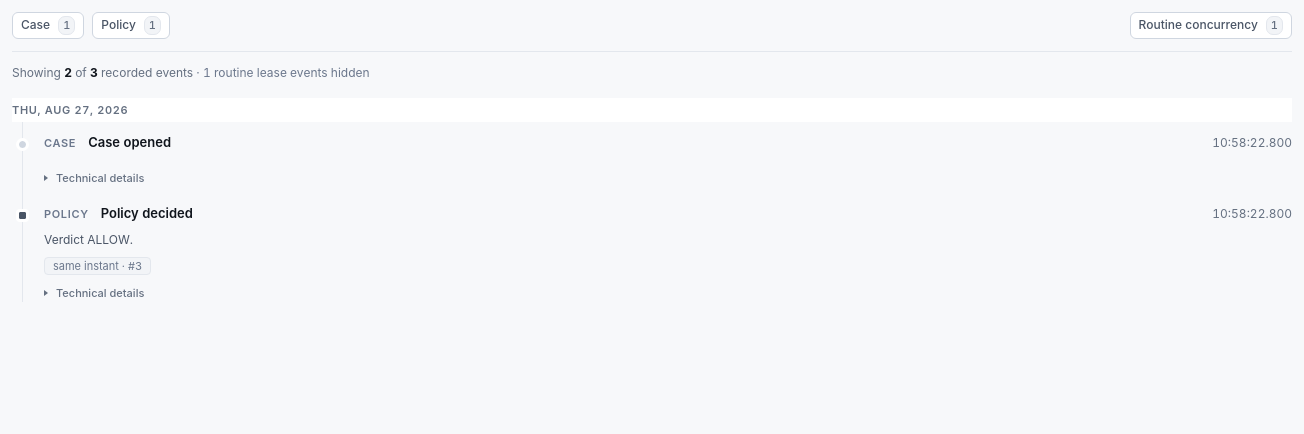
Test: case audit timeline › reveals routine events on request without changing their order
The width and height of the screenshot is (1304, 434).
Click the button "Routine concurrency 1". click: (1211, 25)
box: [1130, 12, 1292, 38]
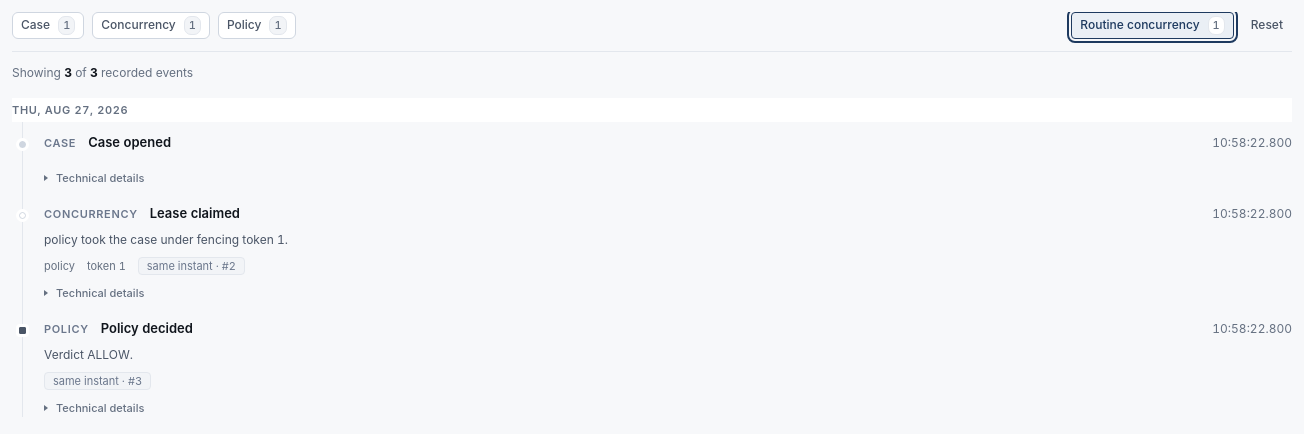
Expected: the headings read "Case opened", "Lease claimed", "Policy decided", in this order, [88, 134, 171, 150]; [150, 204, 240, 221]; [101, 320, 193, 336]
